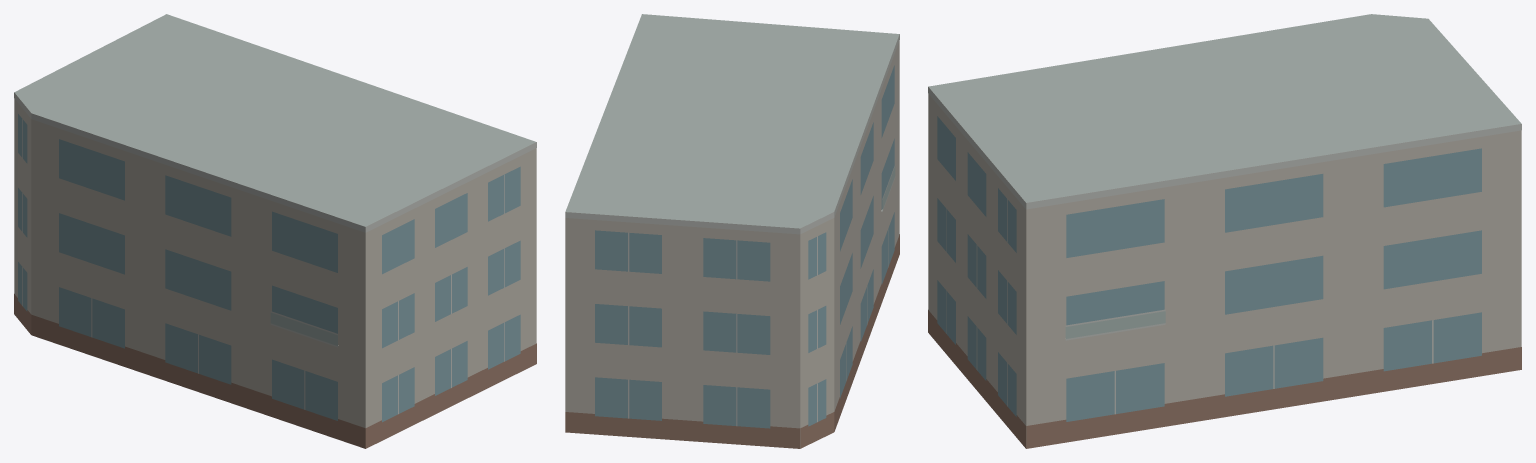
File: survey-upis-33044340.glb
The picture shows the model from 3 angles, left to right: view 1: azimuth 30°, elevation 25°; view 2: azimuth 150°, elevation 25°; view 3: azimuth 270°, elevation 25°; orthographic projection. The views are drawn at different scales.
Visible parts, largest first — view 1: survey-upis-33044340.tmp; view 2: survey-upis-33044340.tmp; view 3: survey-upis-33044340.tmp.
Part boxes in pixels (box(x1,y1,x2,y2)): survey-upis-33044340.tmp: box(14, 14, 536, 448); survey-upis-33044340.tmp: box(565, 14, 899, 448); survey-upis-33044340.tmp: box(928, 14, 1521, 448).
Size of the model in its own units: 15.09 by 9.15 by 20.03.
